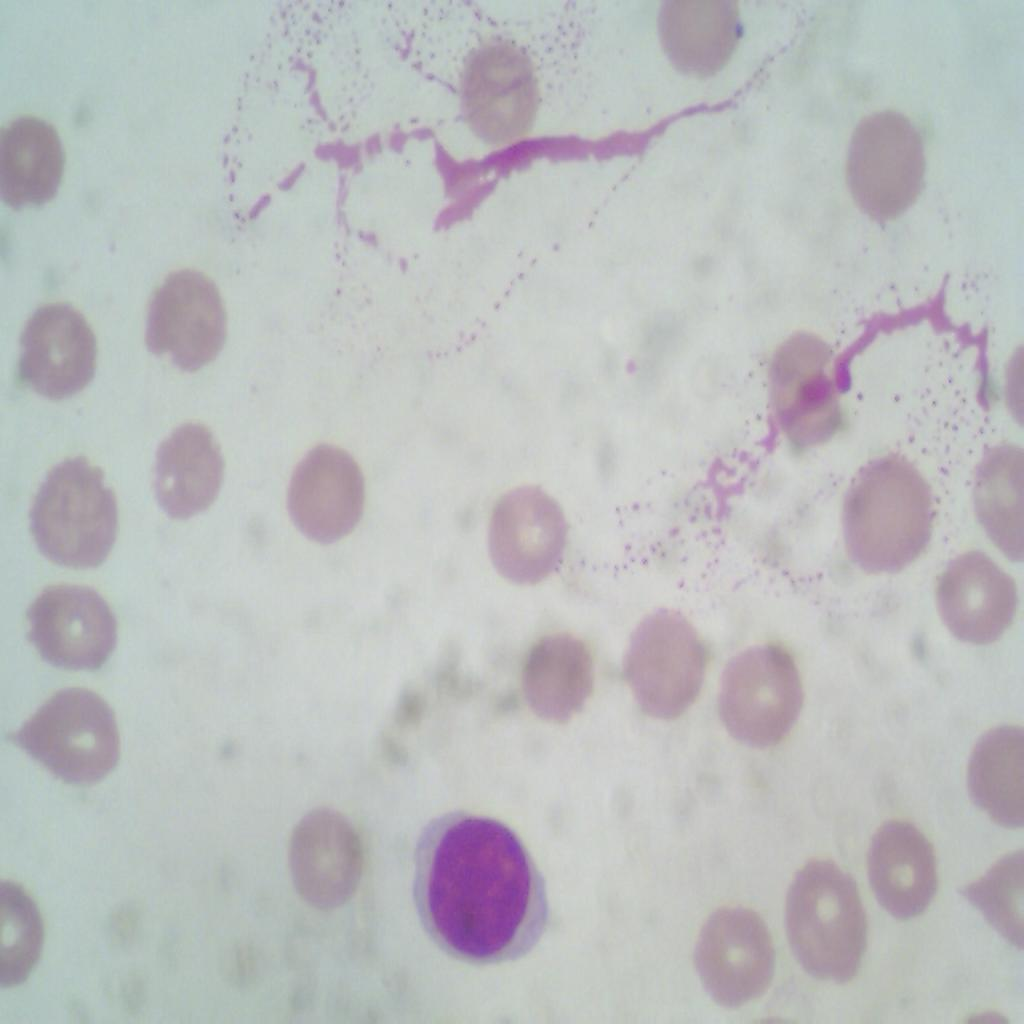Eritrosit: (830, 451, 949, 584), (751, 312, 858, 450), (778, 845, 873, 995), (838, 104, 936, 232), (451, 26, 553, 148), (8, 684, 122, 787), (138, 260, 234, 382), (479, 482, 578, 597), (618, 595, 708, 721), (513, 618, 606, 737), (282, 799, 374, 917), (9, 294, 103, 404), (28, 454, 122, 564), (715, 637, 809, 744), (286, 444, 374, 558), (18, 578, 122, 674), (650, 0, 756, 91), (694, 898, 775, 1016), (138, 426, 230, 518), (928, 541, 1011, 641), (0, 115, 73, 224), (863, 814, 939, 915), (963, 712, 1023, 838), (968, 434, 1023, 557)
Limfosit: (409, 797, 550, 980)
